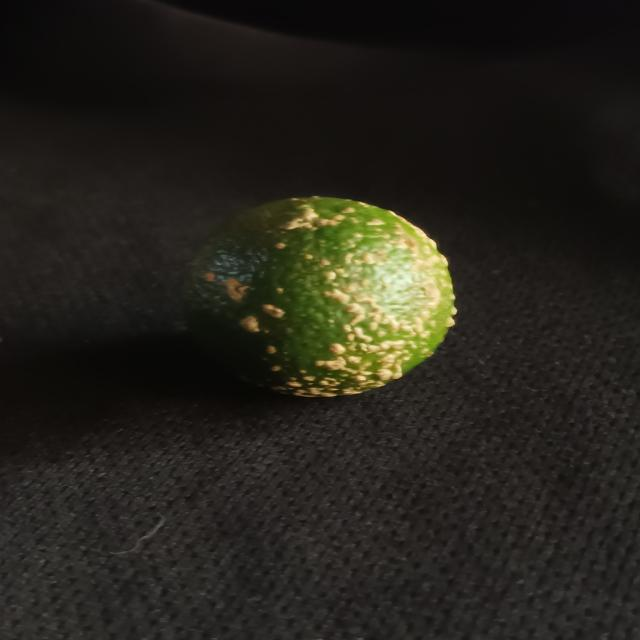scab: (177, 194, 459, 394)
